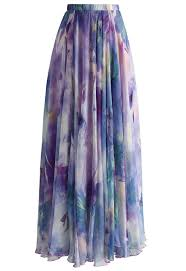C_skirt: (28, 1, 155, 269)
